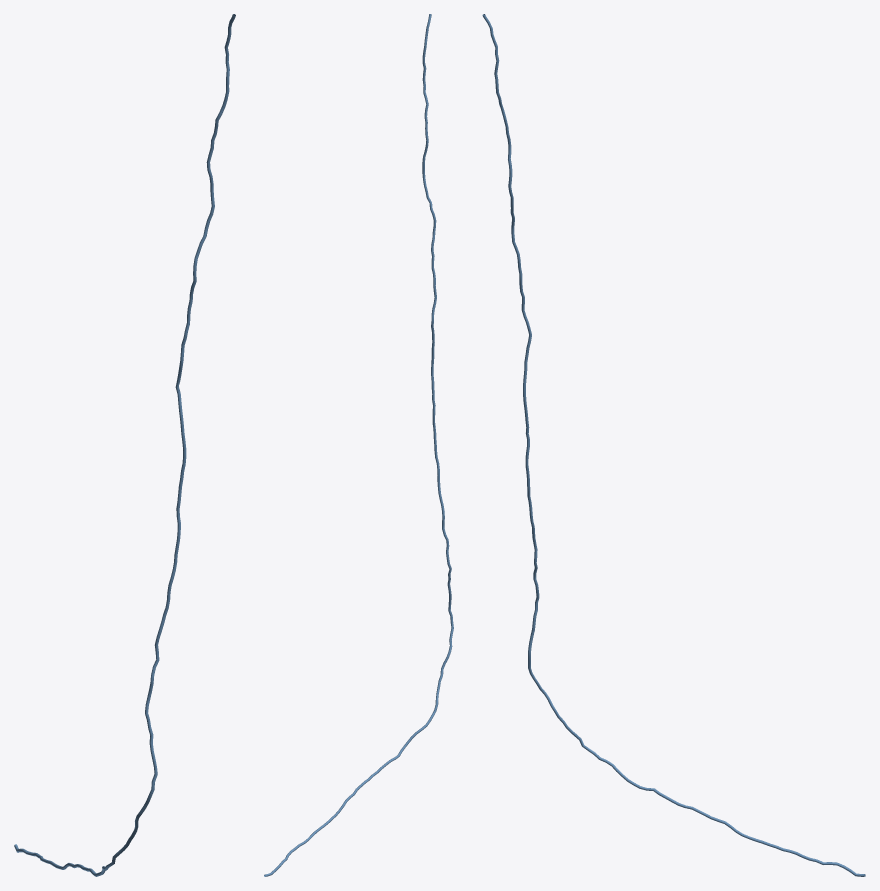
Rendered from sweep1.fbx.
3 renders of one model, left to right at view 1: azimuth 30°, elevation 25°; view 2: azimuth 150°, elevation 25°; view 3: azimuth 270°, elevation 25°, orthographic. The views are drawn at different scales.
Parts seen in each view (by area): view 1: sweep1; view 2: sweep1; view 3: sweep1.
Boxes of the visible parts, x1,y1,x2,y2 form: sweep1: (14,14,235,876); sweep1: (264,14,453,876); sweep1: (482,14,865,876).
Size of the model in its own units: 0.4555 by 6.3 by 2.54.
